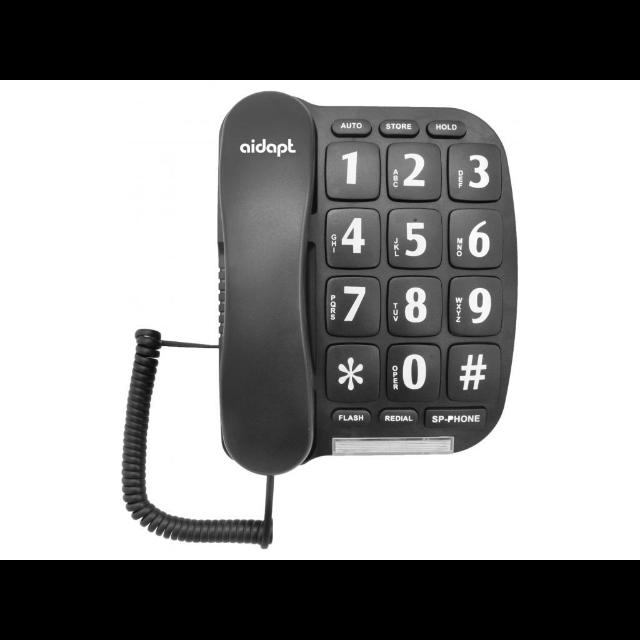Telephone-Set: (190, 99, 548, 478)
